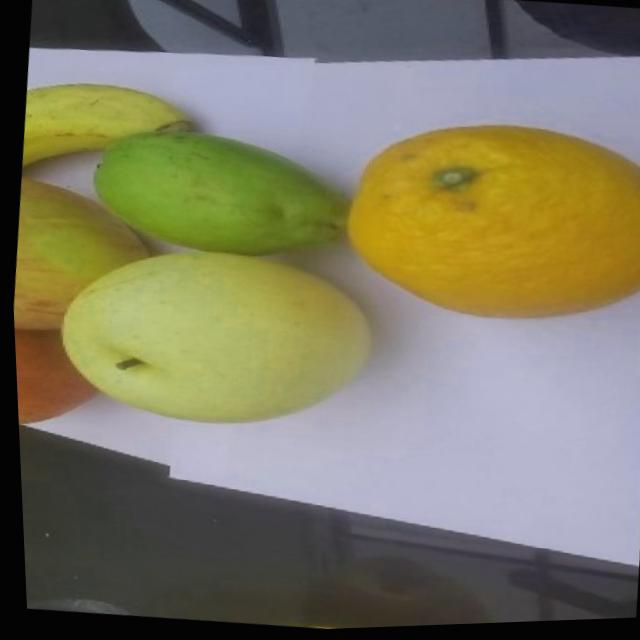Apple: (6, 172, 158, 343), (11, 323, 103, 435)
Banana: (18, 73, 196, 185)
Orange: (331, 105, 640, 341)
